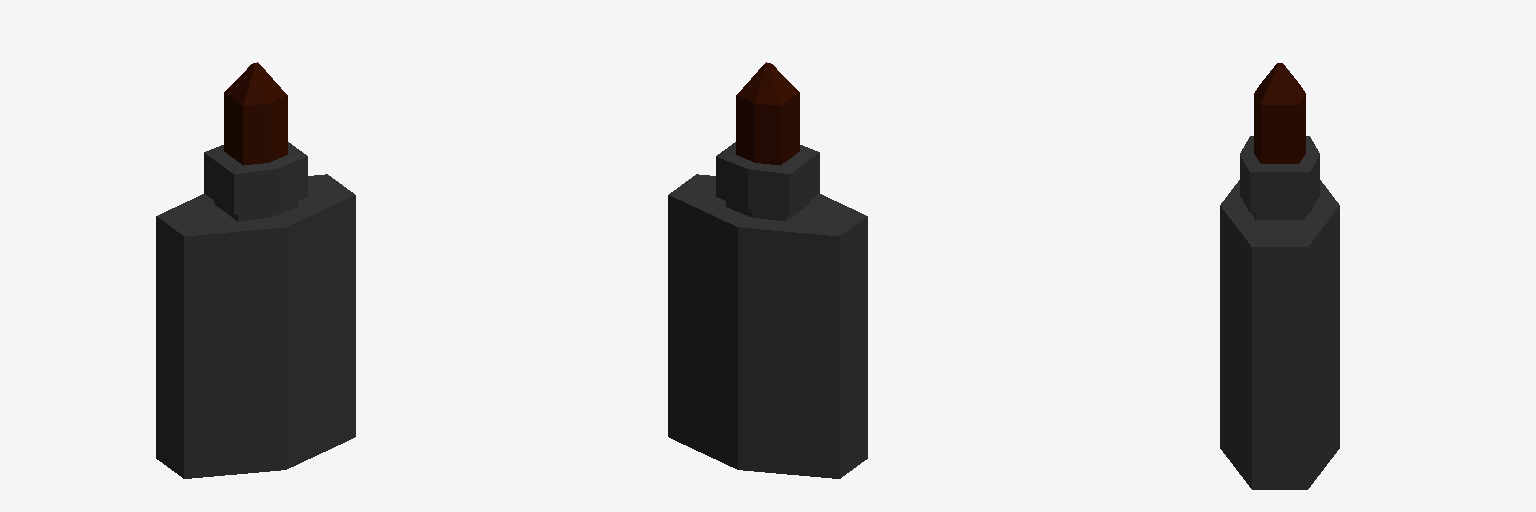
Rendered from Glue1.obj.
3 views of the same model, side by side, from view 1: azimuth 30°, elevation 25°; view 2: azimuth 150°, elevation 25°; view 3: azimuth 270°, elevation 25° (orthographic).
Parts seen in each view (by area): view 1: Glue1_Cube.001; view 2: Glue1_Cube.001; view 3: Glue1_Cube.001.
Boxes of the visible parts, <box> form: Glue1_Cube.001: <box>156,62,355,478</box>; Glue1_Cube.001: <box>668,62,867,478</box>; Glue1_Cube.001: <box>1220,63,1339,489</box>.
Size of the model in its own units: 0.0891 by 0.191 by 0.0541.